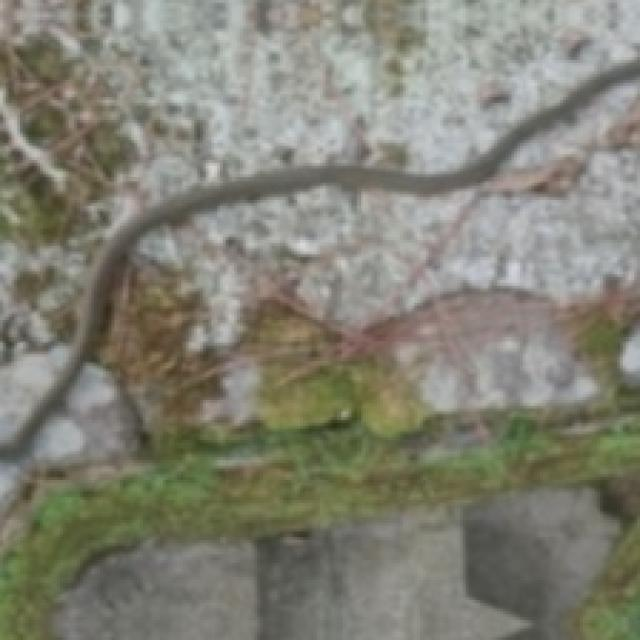gunthers philippine shrub snake: (0, 77, 637, 637), (0, 0, 637, 454), (0, 0, 637, 351)
